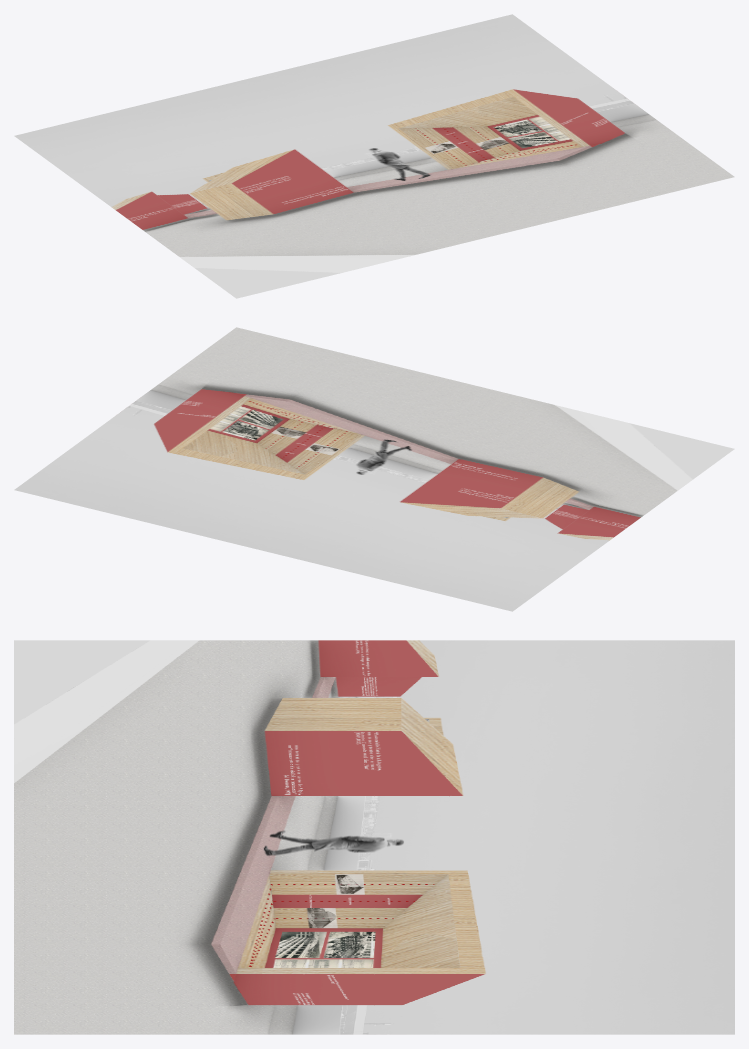
File: Storia 1!.obj
The picture shows the model from 3 angles, top to bottom: view 1: azimuth 30°, elevation 25°; view 2: azimuth 150°, elevation 25°; view 3: azimuth 270°, elevation 25°; orthographic projection. The views are drawn at different scales.
Parts seen in each view (by area): view 1: Plane001; view 2: Plane001; view 3: Plane001.
Boxes of the visible parts, bbox=[...] form: Plane001: bbox=[14, 14, 734, 298]; Plane001: bbox=[14, 327, 734, 611]; Plane001: bbox=[14, 640, 734, 1034].
Bounding box in the file's own units: 45.83 × 0 × 35.42.
1 material, 1 textured.
